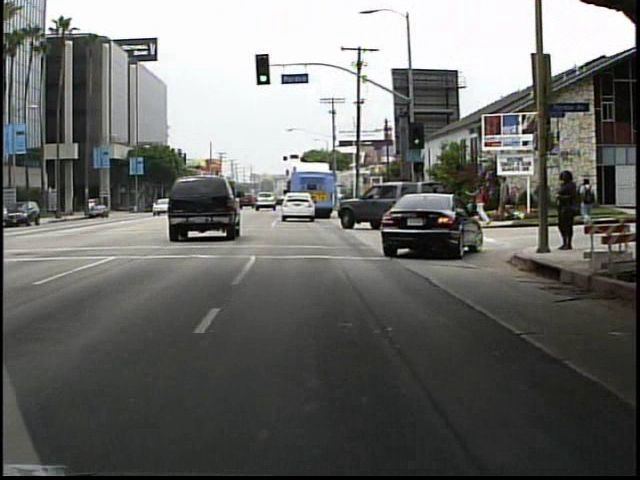person: (550, 167, 576, 256), (469, 178, 494, 222), (579, 173, 598, 229), (496, 175, 514, 222)
